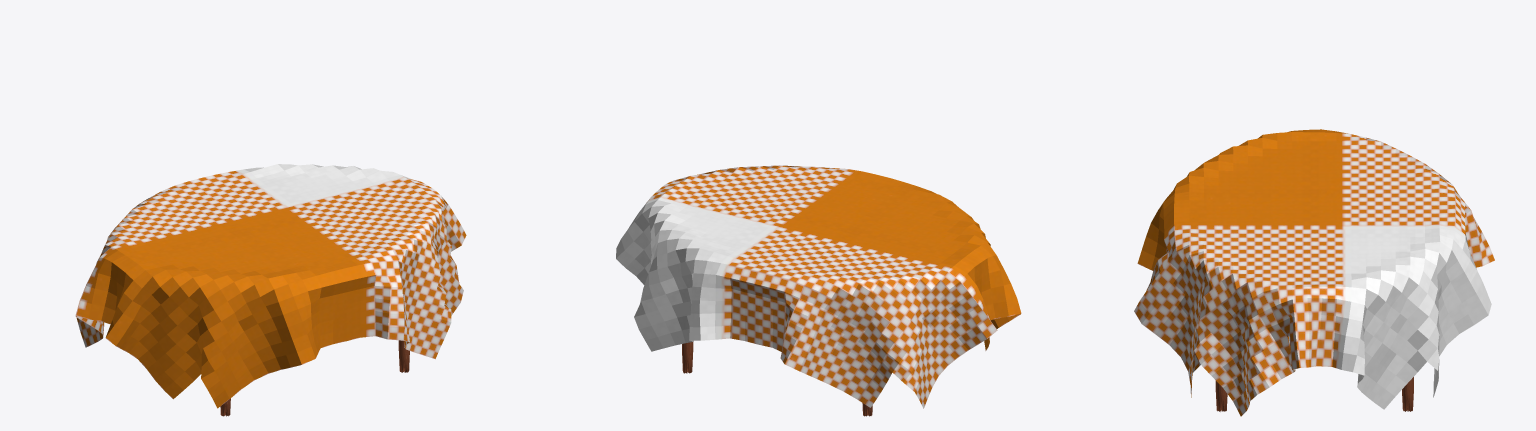
Rendered from salotto_tavolopranzo_fix.fbx.
3 renders of one model, left to right at view 1: azimuth 30°, elevation 25°; view 2: azimuth 150°, elevation 25°; view 3: azimuth 270°, elevation 25°, orthographic. The views are drawn at different scales.
Visible parts, largest first — view 1: tovaglia; view 2: tovaglia; view 3: tovaglia, tavolo.
Boxes of the visible parts, bbox=[...] form: tovaglia: bbox=[75, 164, 466, 408]; tovaglia: bbox=[616, 165, 1021, 408]; tovaglia: bbox=[1134, 129, 1494, 416]; tavolo: bbox=[1215, 377, 1413, 411].
Size of the model in its own units: 228 by 139 by 200.
